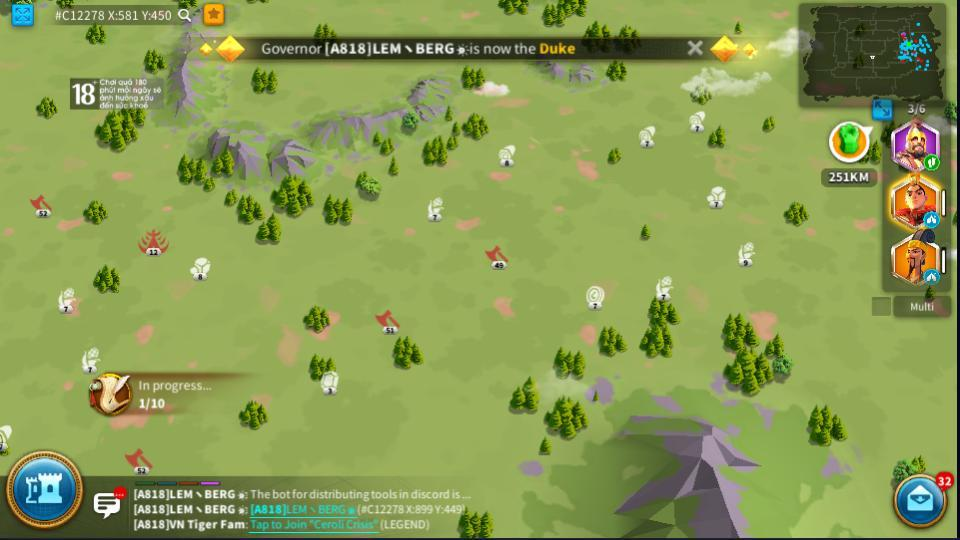gem-z-out: (0, 423, 12, 445), (488, 82, 507, 94)
march_idle: (924, 270, 939, 282), (923, 213, 938, 225)
march_marching: (923, 156, 938, 169)
